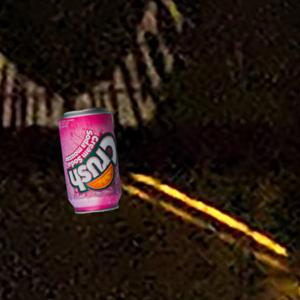can: (56, 107, 125, 216)
